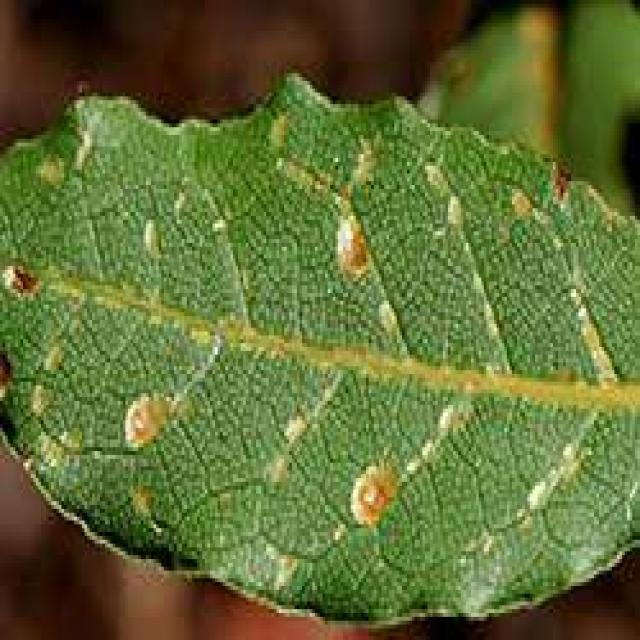scale_insect: (118, 374, 172, 455), (343, 451, 399, 528), (328, 200, 373, 278), (30, 139, 66, 193), (504, 174, 535, 224), (36, 328, 66, 378), (20, 374, 54, 416), (374, 289, 399, 336)
